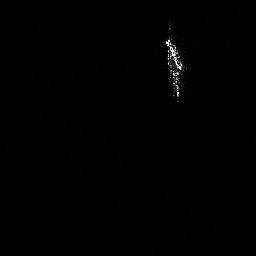ship: (163, 35, 188, 104)
